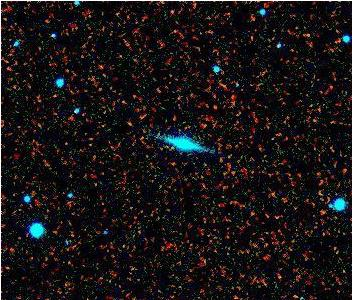star: (115, 109, 145, 139)
